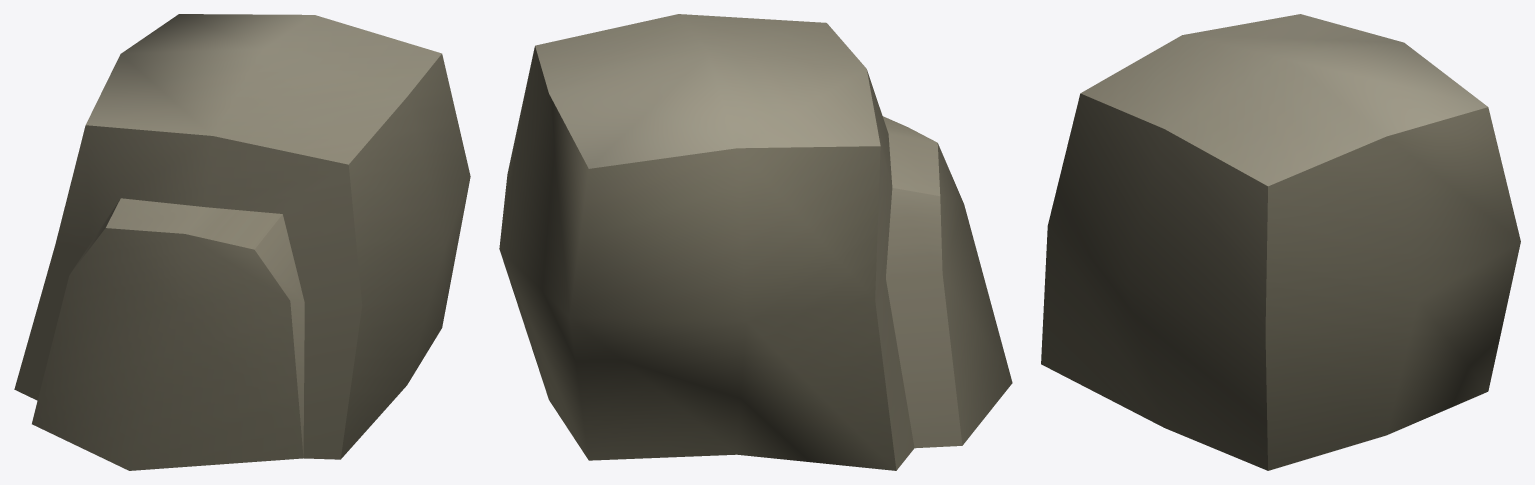
The model's file is mine_stone_04.fbx.
3 views of the same model, side by side, from view 1: azimuth 30°, elevation 25°; view 2: azimuth 150°, elevation 25°; view 3: azimuth 270°, elevation 25° (orthographic). The views are drawn at different scales.
Visible parts, largest first — view 1: mine_stone_04; view 2: mine_stone_04; view 3: mine_stone_04.
Boxes of the visible parts, x1,y1,x2,y2 form: mine_stone_04: (14, 14, 470, 470); mine_stone_04: (499, 14, 1012, 470); mine_stone_04: (1041, 14, 1520, 470).
Bounding box in the file's own units: 271 × 188 × 251.
